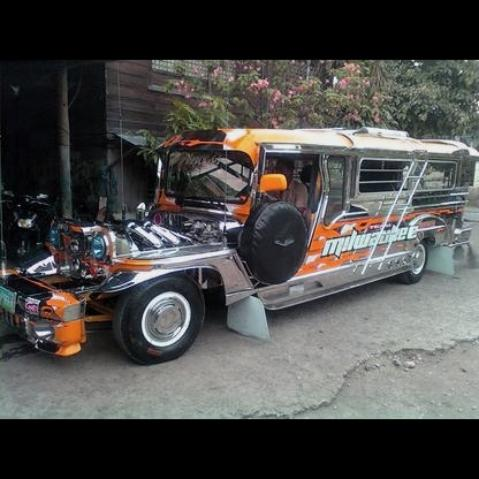jeepney: (1, 115, 479, 367)
